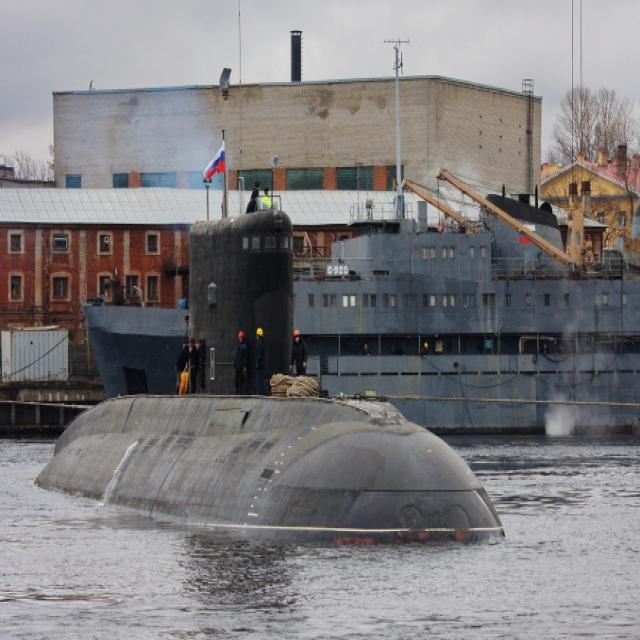submarine: (34, 218, 510, 546)
